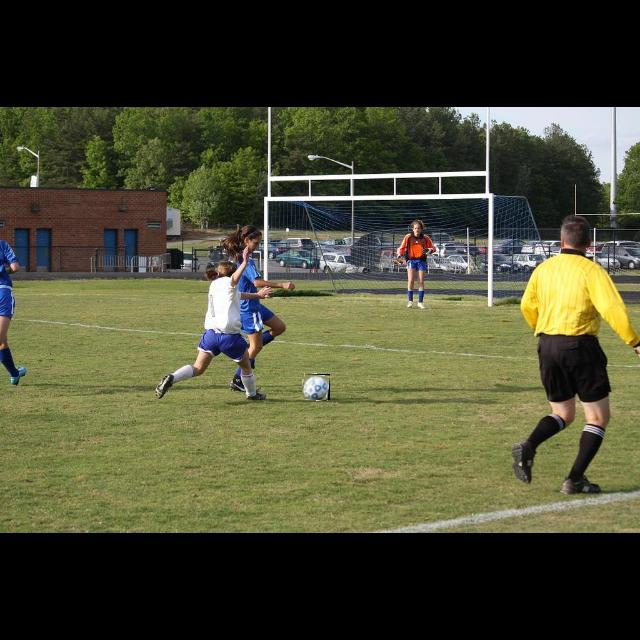Football: (302, 374, 330, 400)
